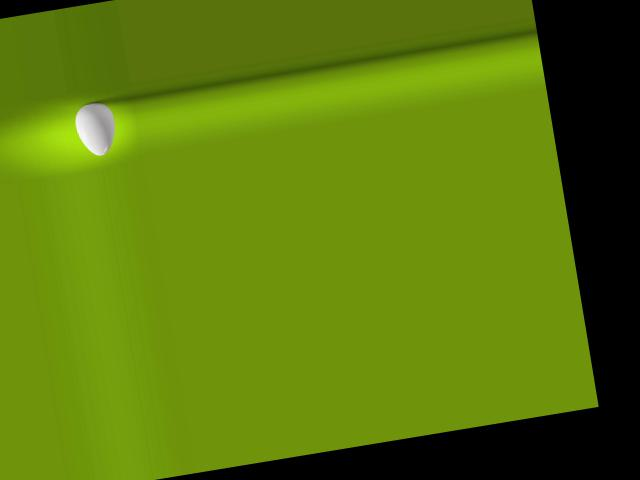egg: (72, 100, 120, 159)
